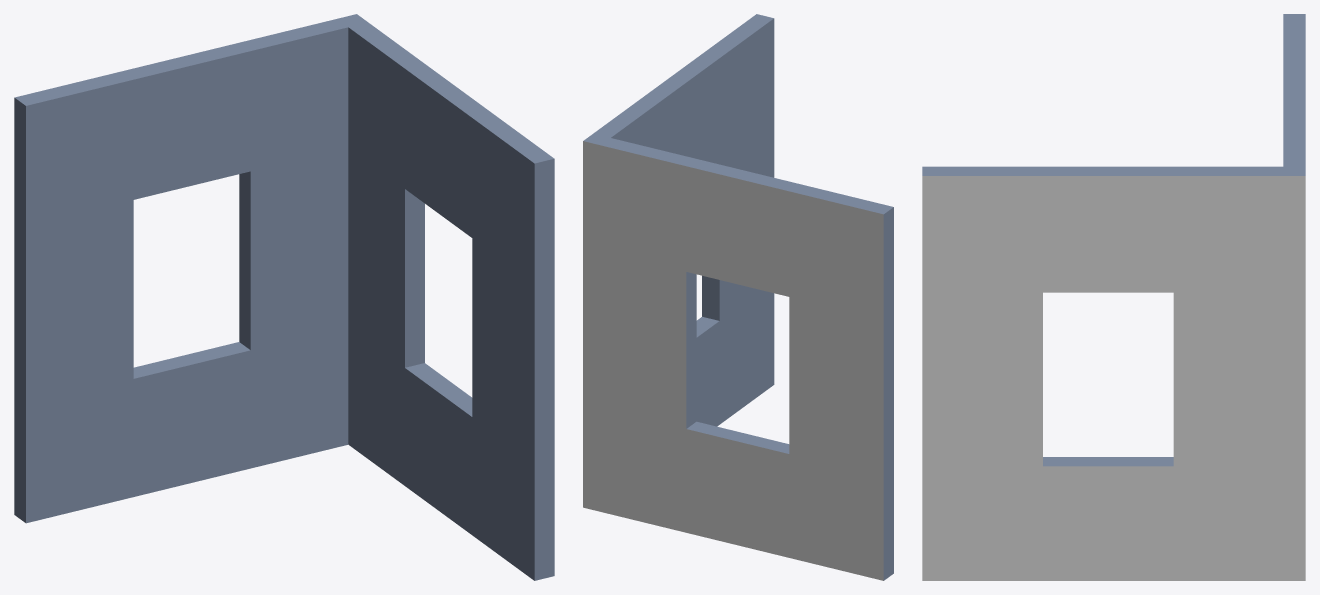
Rendered from Wall1_C3_09.fbx.
3 renders of one model, left to right at view 1: azimuth 30°, elevation 25°; view 2: azimuth 150°, elevation 25°; view 3: azimuth 270°, elevation 25°, orthographic. The views are drawn at different scales.
Parts seen in each view (by area): view 1: Wall1_C3_09; view 2: Wall1_C3_09; view 3: Wall1_C3_09.
Boxes of the visible parts, box(x1,y1,x2,y2) form: Wall1_C3_09: box(14, 14, 554, 580); Wall1_C3_09: box(583, 14, 893, 580); Wall1_C3_09: box(922, 14, 1305, 580).
Size of the model in its own units: 258 by 300 by 258.
